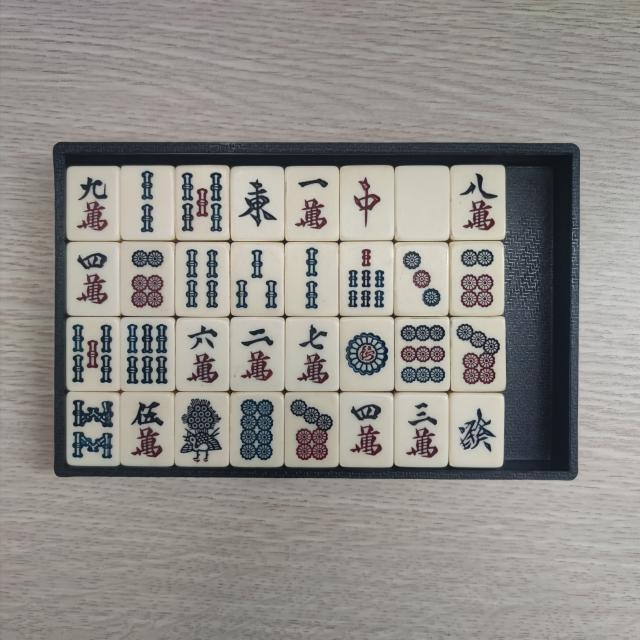hdg: (457, 398, 500, 462)
hdr: (346, 171, 388, 237)
hdw: (402, 172, 447, 237)
hwe: (235, 170, 280, 236)
sb1: (178, 396, 224, 464)
sb2: (290, 247, 336, 315), (126, 169, 170, 237)
sb3: (235, 246, 282, 312)
sb4: (182, 247, 226, 313)
sb5: (182, 172, 228, 240), (70, 322, 114, 388)
sb6: (124, 322, 170, 387)
sb7: (343, 246, 389, 314)
sb8: (72, 397, 118, 463)
sc1: (291, 172, 336, 236)
sc2: (234, 322, 280, 386)
sc3: (400, 397, 445, 462)
sc4: (344, 398, 388, 463), (73, 247, 116, 311)
sc5: (126, 398, 170, 462)
sc6: (182, 323, 224, 388)
sc7: (290, 322, 336, 388)
sc8: (456, 172, 502, 238)
sc9: (74, 172, 115, 236)
sd1: (343, 322, 390, 387)
sd3: (400, 248, 446, 312)
sd6: (126, 248, 168, 314), (455, 248, 498, 312)
sd7: (454, 323, 502, 390), (289, 398, 336, 463)
sd8: (235, 398, 279, 463)
sd9: (400, 322, 448, 386)
